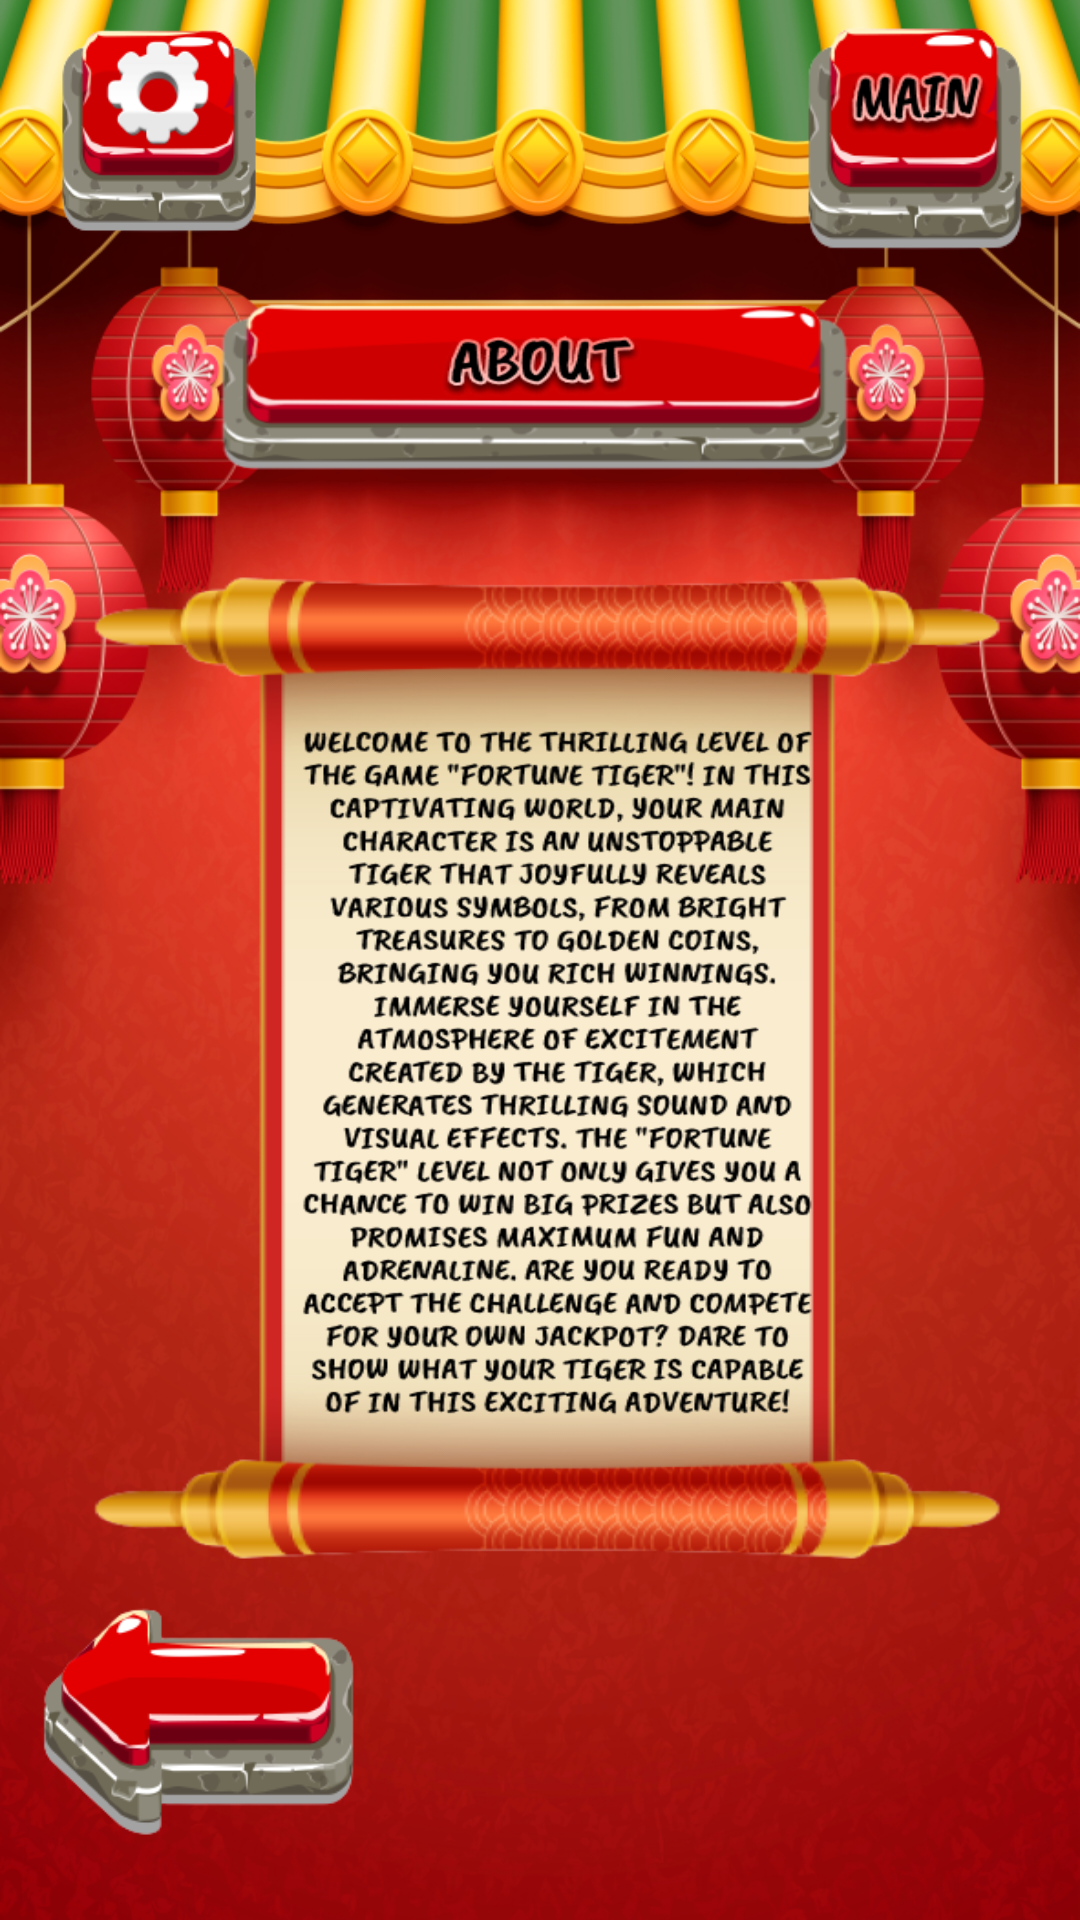

Point at icon controls on the screen. Image size 1080 x 1920, points as (x,y).
back tap: (202,1703)
setting tap: (159,126)
